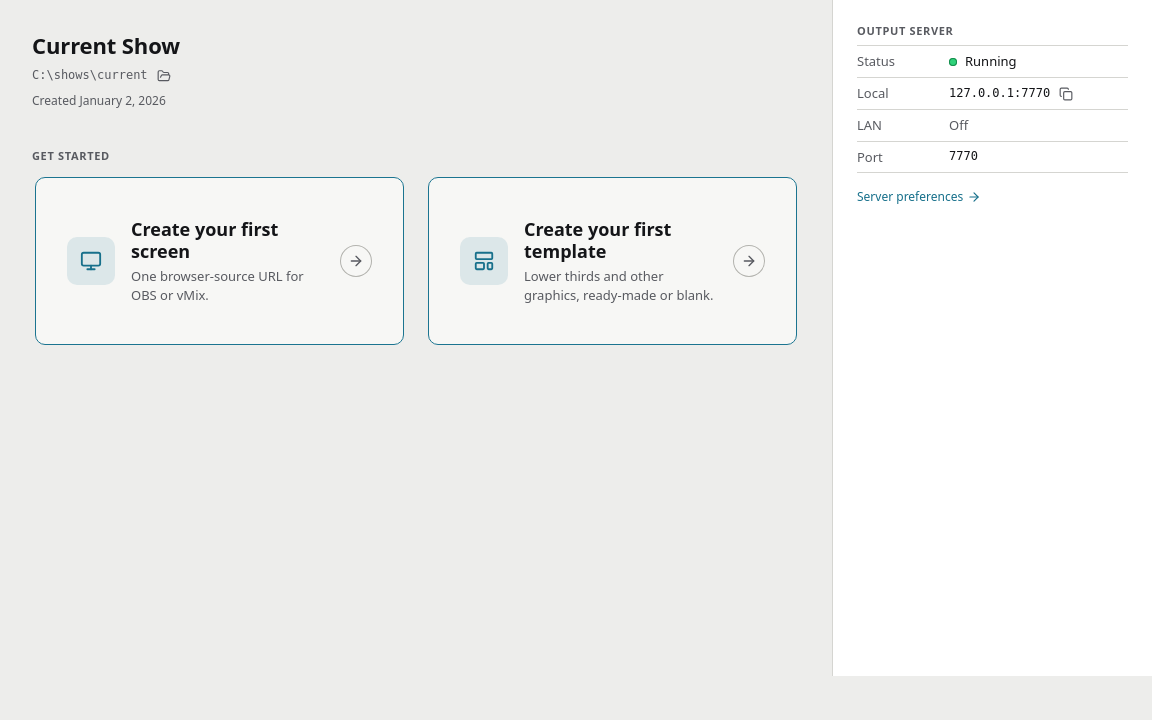
Scenario: Dashboard, empty project › Create your first template opens the New template gallery (lazy)
This screenshot has width=1152, height=720.
Check: the heading "New template" is not shown
Click the button "Create your first template".
click(484, 261)  # box [428,177,797,345]
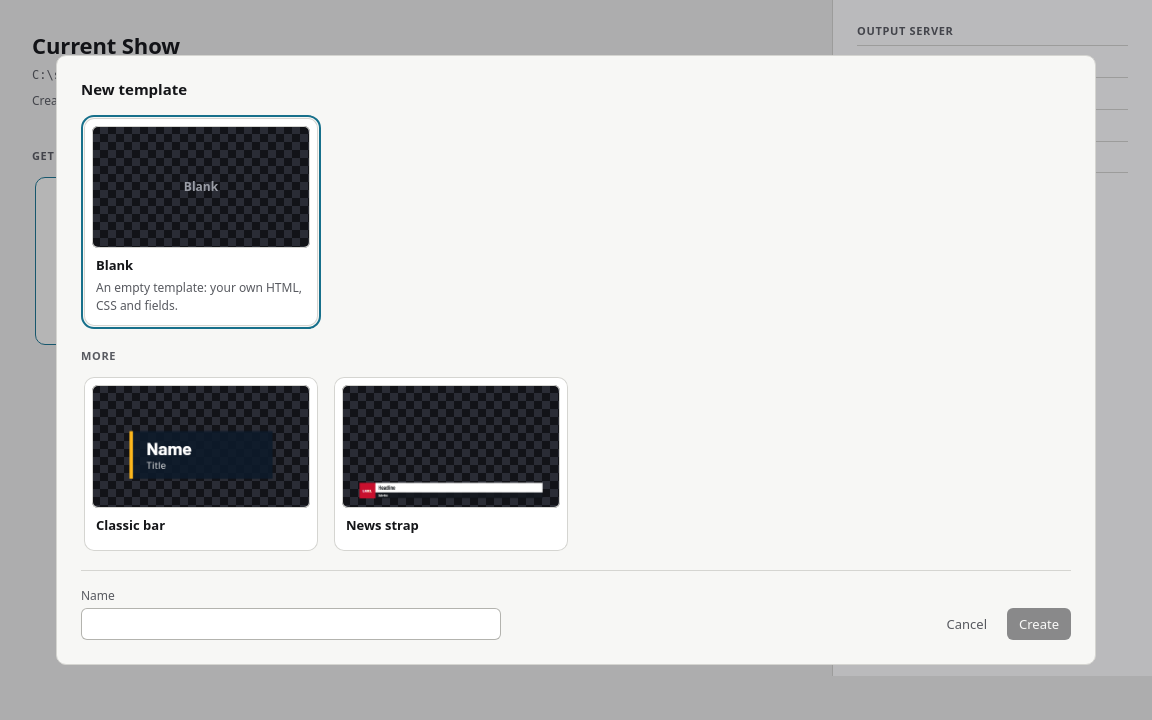
Check: the heading "New template" is shown, box [81,79,187,99]
